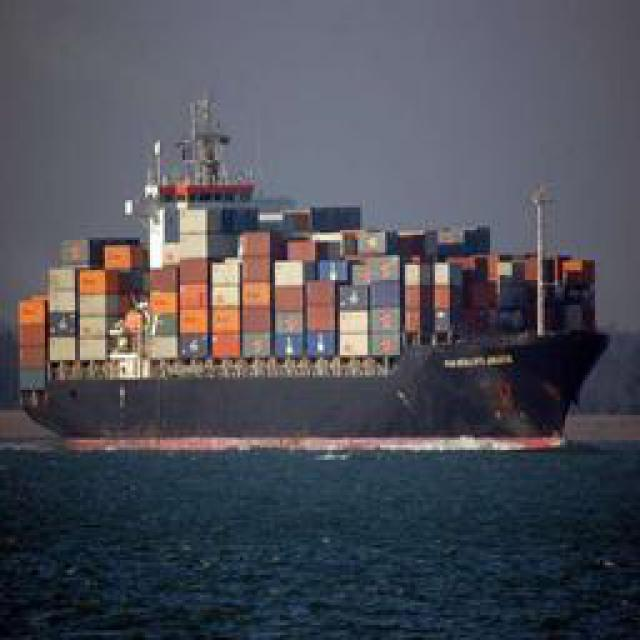Ship: (1, 86, 623, 457)
